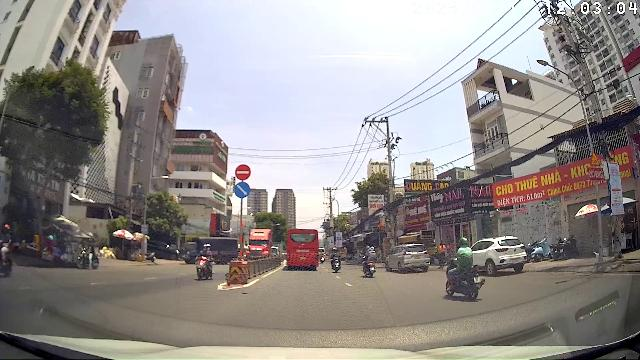102-cam-di-nguoc-chieu: (235, 163, 252, 180)
302a-huong-phai-di-vong-chuong-ngai-vat-1: (234, 181, 250, 199)
